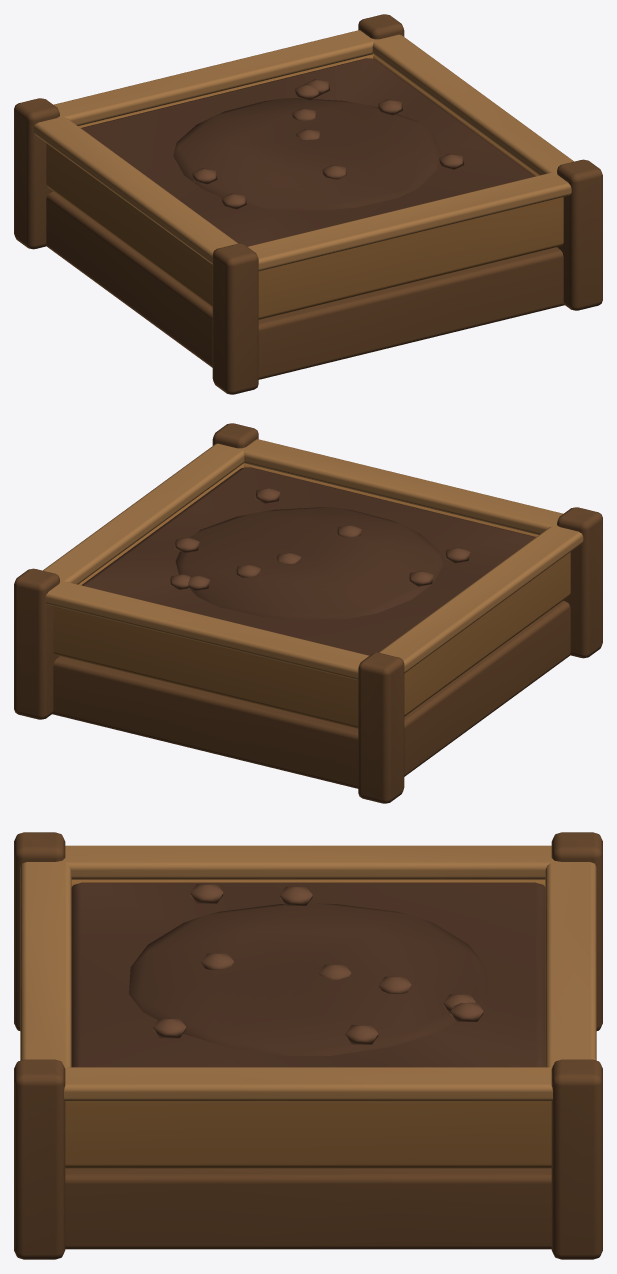
Rendered from planter_box.glb.
The picture shows the model from 3 angles, top to bottom: view 1: azimuth 30°, elevation 25°; view 2: azimuth 150°, elevation 25°; view 3: azimuth 270°, elevation 25°; orthographic projection. The views are drawn at different scales.
Visible parts, largest first — view 1: planter_box_main; view 2: planter_box_main; view 3: planter_box_main.
Boxes of the visible parts, x1=… form: planter_box_main: x1=14, y1=14, x2=602, y2=394; planter_box_main: x1=14, y1=423, x2=602, y2=803; planter_box_main: x1=14, y1=832, x2=602, y2=1259.
Size of the model in its own units: 0.92 by 0.32 by 0.92.
